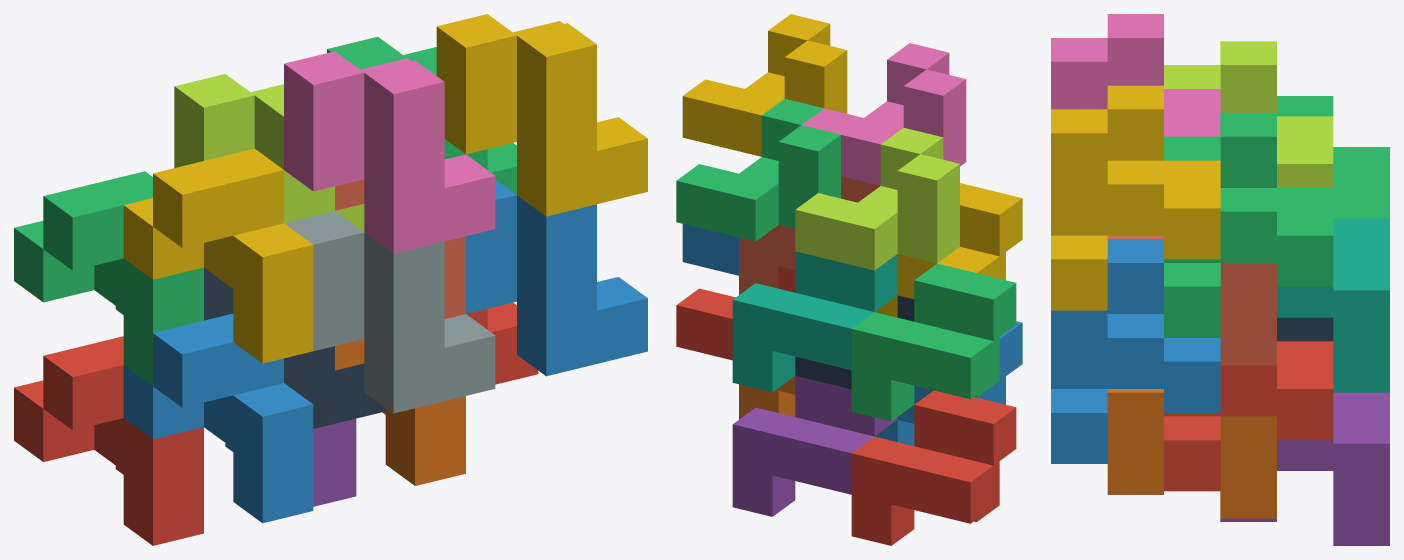
Rendered from tiling.obj.
3 renders of one model, left to right at view 1: azimuth 30°, elevation 25°; view 2: azimuth 150°, elevation 25°; view 3: azimuth 270°, elevation 25°, orthographic. The views are drawn at different scales.
Parts seen in each view (by area): view 1: copy_2_domain_4, copy_2_domain_8, copy_1_domain_4, copy_2_domain_2, copy_1_domain_2, copy_2_domain_6, copy_1_domain_1, copy_1_domain_3, copy_2_domain_3, copy_1_domain_6, copy_2_domain_1, copy_2_domain_7 (+3 smaller); view 2: copy_1_domain_3, copy_1_domain_1, copy_2_domain_3, copy_1_domain_7, copy_2_domain_7, copy_1_domain_5, copy_2_domain_8, copy_2_domain_4, copy_1_domain_4, copy_2_domain_5, copy_1_domain_8, copy_1_domain_2 (+3 smaller); view 3: copy_2_domain_8, copy_2_domain_6, copy_2_domain_7, copy_2_domain_5, copy_1_domain_6, copy_1_domain_7, copy_2_domain_4, copy_1_domain_5, copy_2_domain_3, copy_1_domain_8, copy_1_domain_3, copy_2_domain_1.
Boxes of the visible parts, x1,y1,x2,y2 form: copy_2_domain_4: (284, 51, 495, 253); copy_2_domain_8: (436, 14, 647, 216); copy_1_domain_4: (123, 148, 313, 363); copy_2_domain_2: (284, 211, 495, 413); copy_1_domain_2: (123, 313, 313, 523); copy_2_domain_6: (466, 179, 647, 376); copy_1_domain_1: (14, 336, 203, 545); copy_1_domain_3: (14, 171, 203, 385); copy_2_domain_3: (174, 74, 364, 231); copy_1_domain_6: (335, 339, 465, 485); copy_2_domain_1: (204, 268, 385, 428); copy_2_domain_7: (327, 36, 516, 194); copy_1_domain_3: (851, 263, 1016, 421); copy_1_domain_1: (851, 390, 1016, 545); copy_2_domain_3: (795, 127, 959, 270); copy_1_domain_7: (732, 251, 897, 392); copy_2_domain_7: (676, 99, 840, 241); copy_1_domain_5: (732, 376, 897, 516); copy_2_domain_8: (682, 14, 847, 156); copy_2_domain_4: (802, 43, 966, 185); copy_1_domain_4: (875, 183, 1022, 317); copy_2_domain_5: (676, 266, 795, 360); copy_1_domain_8: (739, 176, 879, 294); copy_1_domain_2: (875, 321, 1022, 445); copy_2_domain_8: (1051, 85, 1220, 310); copy_2_domain_6: (1051, 239, 1220, 463); copy_2_domain_7: (1164, 113, 1333, 337); copy_2_domain_5: (1164, 341, 1333, 491); copy_1_domain_6: (1107, 389, 1276, 518); copy_1_domain_7: (1277, 218, 1389, 392); copy_2_domain_4: (1051, 14, 1220, 136); copy_1_domain_5: (1220, 392, 1389, 545); copy_2_domain_3: (1164, 41, 1333, 187); copy_1_domain_8: (1107, 235, 1276, 365); copy_1_domain_3: (1277, 96, 1389, 218); copy_2_domain_1: (1277, 317, 1333, 341).
Size of the model in its own units: 9 by 9 by 6.
